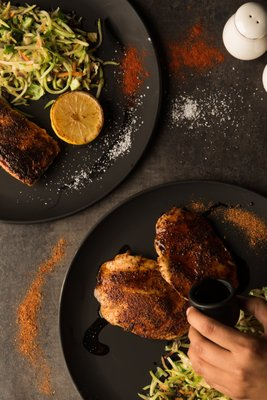sushi: (0, 0, 162, 228)
